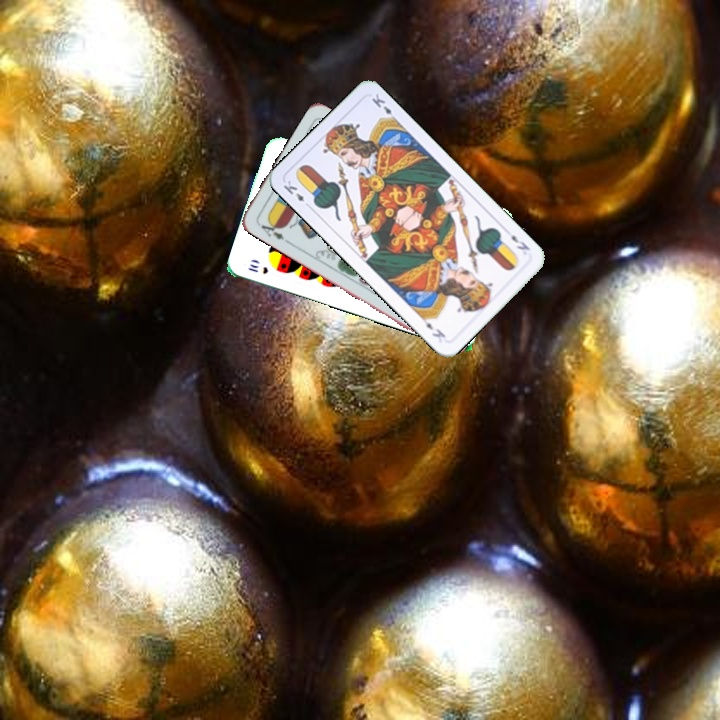EA: (254, 216, 287, 242)
EK: (279, 176, 313, 211), (507, 230, 533, 253)
S10: (244, 260, 271, 277)
